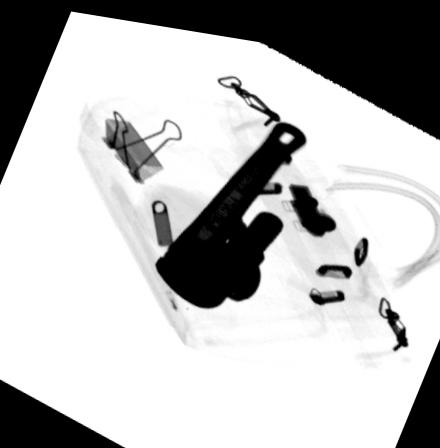Wrench: (152, 111, 308, 302)
